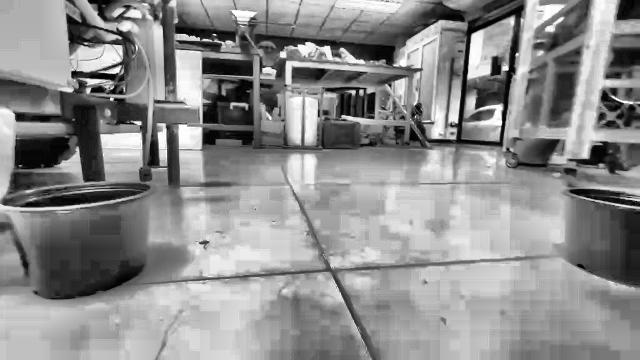pot: (0, 181, 156, 299), (562, 188, 639, 286)
